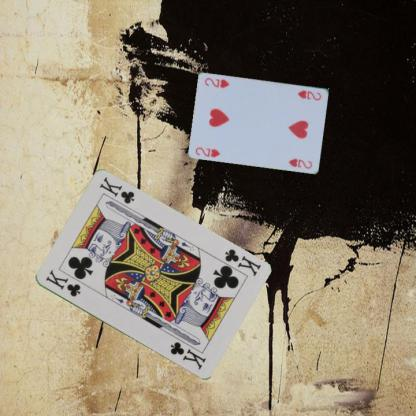2h: (296, 87, 323, 102), (193, 144, 221, 158)
Kc: (222, 246, 262, 278), (43, 267, 82, 299)
